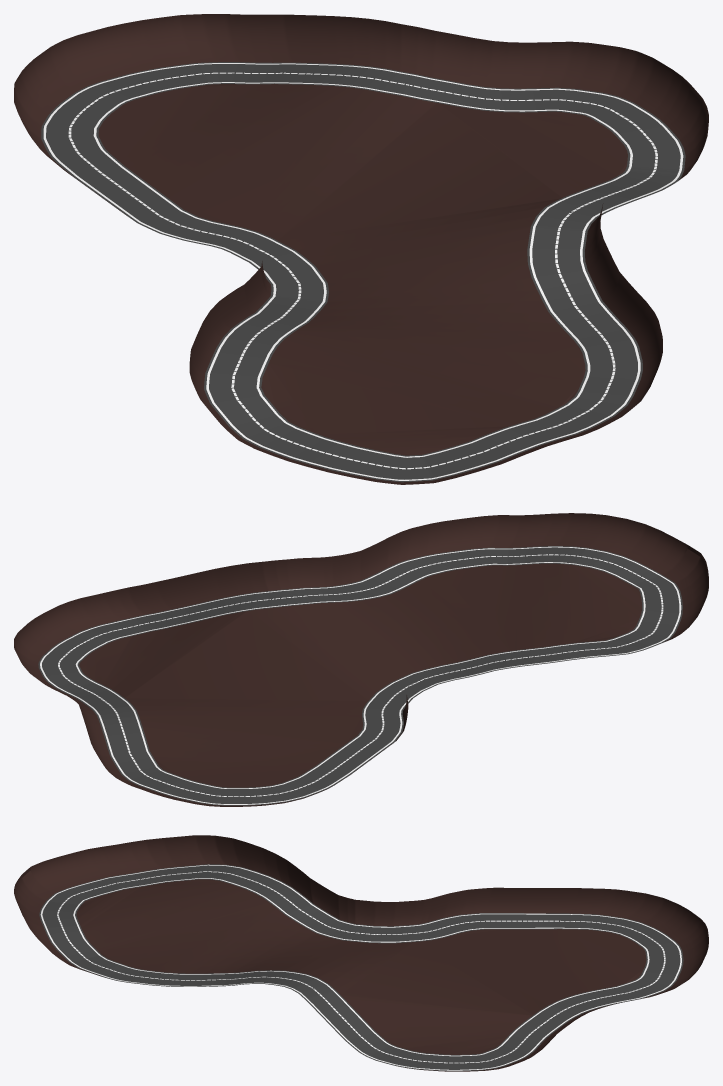
File: RoadFury.fbx
3 views of the same model, one above another, from view 1: azimuth 30°, elevation 25°; view 2: azimuth 150°, elevation 25°; view 3: azimuth 270°, elevation 25° (orthographic). The views are drawn at different scales.
Visible parts, largest first — view 1: Fury Road Outside, Fury Road Road, Fury Road Left, Fury Road Right, Fury Road Middle; view 2: Fury Road Outside, Fury Road Road, Fury Road Left, Fury Road Middle, Fury Road Right; view 3: Fury Road Outside, Fury Road Road, Fury Road Left, Fury Road Right, Fury Road Middle.
Boxes of the visible parts, x1,y1,x2,y2 form: Fury Road Outside: (14, 14, 708, 484); Fury Road Road: (41, 62, 685, 482); Fury Road Left: (43, 63, 683, 480); Fury Road Right: (93, 82, 632, 457); Fury Road Middle: (68, 72, 657, 469); Fury Road Outside: (14, 513, 708, 806); Fury Road Road: (38, 546, 682, 805); Fury Road Left: (40, 546, 681, 804); Fury Road Middle: (58, 554, 663, 796); Fury Road Right: (75, 562, 645, 788); Fury Road Outside: (14, 835, 708, 1071); Fury Road Road: (39, 864, 683, 1071); Fury Road Left: (40, 864, 681, 1070); Fury Road Right: (73, 878, 649, 1056); Fury Road Middle: (57, 871, 665, 1063).
Size of the model in its own units: 11105 by 1069 by 14942.
